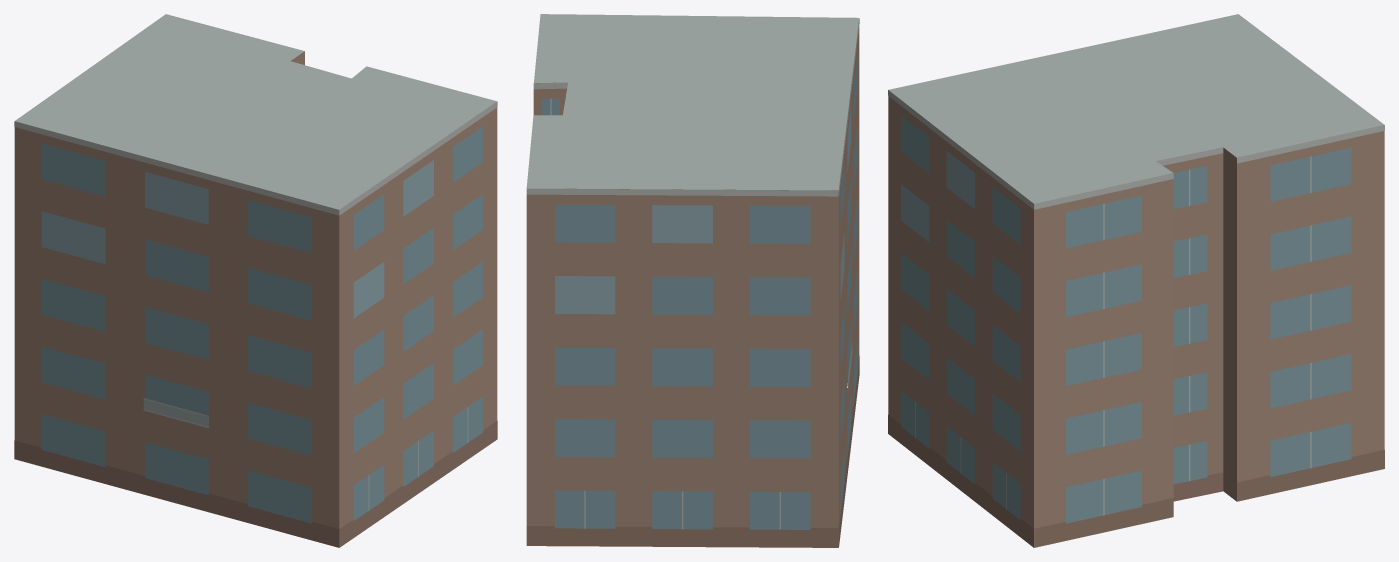
Rendered from survey-upis-32891440.glb.
The picture shows the model from 3 angles, left to right: view 1: azimuth 30°, elevation 25°; view 2: azimuth 150°, elevation 25°; view 3: azimuth 270°, elevation 25°; orthographic projection. The views are drawn at different scales.
Visible parts, largest first — view 1: survey-upis-32891440.tmp; view 2: survey-upis-32891440.tmp; view 3: survey-upis-32891440.tmp.
Part boxes in pixels (x1,y1,x2,y2): survey-upis-32891440.tmp: [14, 14, 497, 547]; survey-upis-32891440.tmp: [526, 14, 859, 547]; survey-upis-32891440.tmp: [888, 14, 1384, 547].
Bounding box in the file's own units: 16.88 × 14.25 × 18.66.
